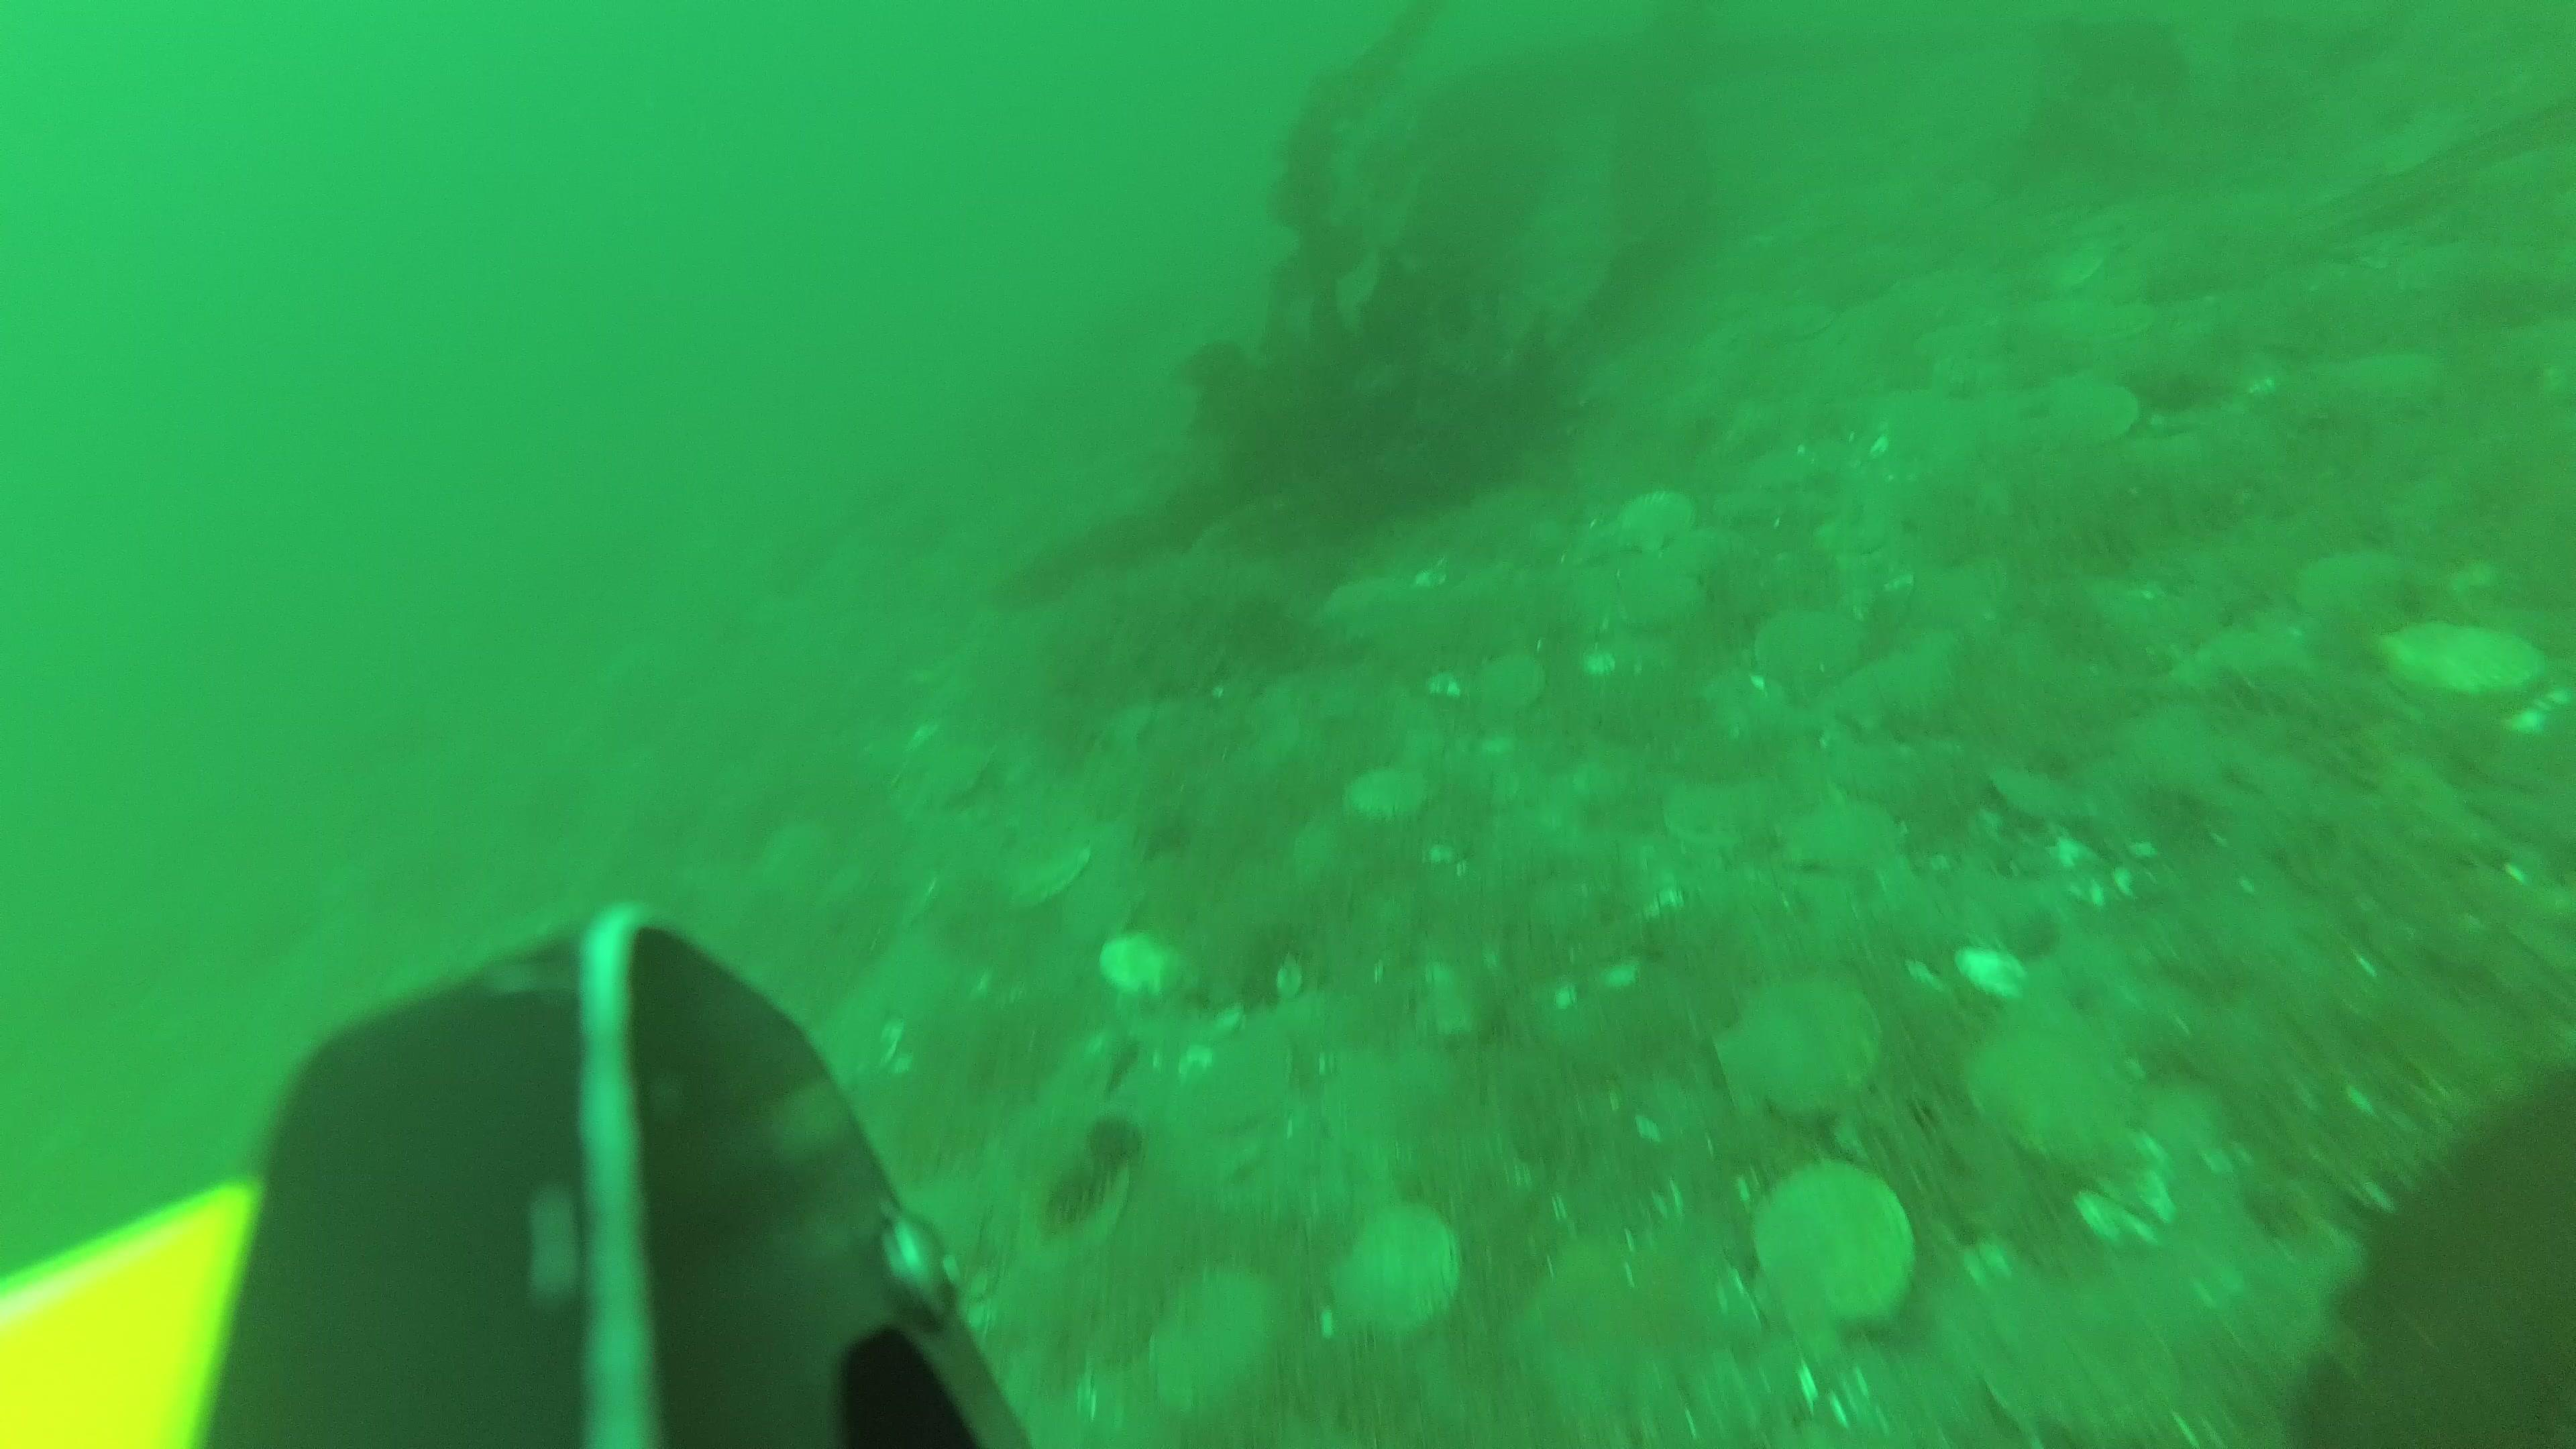scallop: (1522, 1238, 1766, 1449), (1762, 1166, 1918, 1336), (1730, 973, 1886, 1127), (1974, 1008, 2114, 1178), (1989, 1290, 2157, 1428), (2371, 609, 2532, 713), (1155, 1283, 1281, 1412), (1334, 1215, 1467, 1334), (1318, 1049, 1424, 1154), (1185, 1033, 1297, 1131), (2298, 545, 2413, 639), (1668, 777, 1783, 863), (1759, 609, 1861, 699), (1104, 931, 1194, 1014), (2049, 377, 2134, 458), (1016, 840, 1093, 925), (1348, 763, 1431, 832), (1467, 646, 1543, 715), (1619, 488, 1698, 545)
